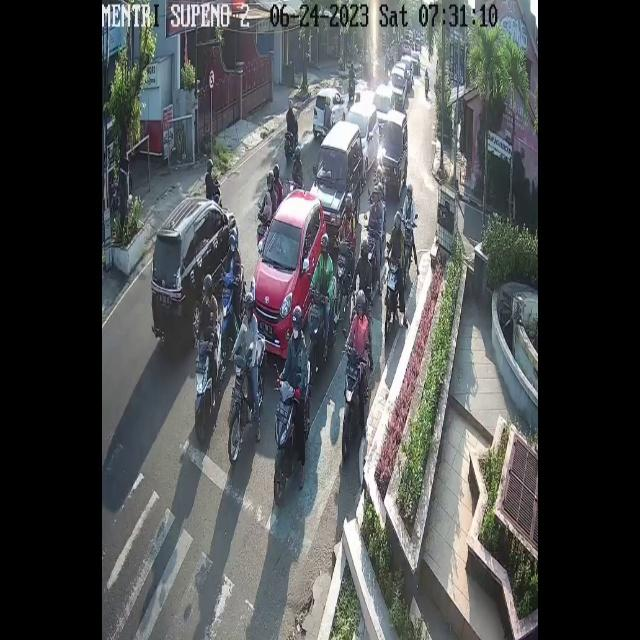bus: (274, 358, 311, 504), (228, 332, 266, 463), (309, 275, 338, 367), (220, 263, 246, 361), (194, 339, 217, 441), (342, 344, 362, 460), (385, 256, 401, 335), (401, 217, 418, 273), (337, 239, 353, 295), (254, 211, 271, 254), (284, 116, 299, 160), (366, 224, 382, 260), (319, 110, 335, 137), (212, 178, 224, 208), (349, 72, 356, 100), (287, 178, 300, 192), (425, 75, 429, 98)
motorcycle: (152, 196, 239, 348), (249, 188, 326, 358), (310, 120, 365, 232), (378, 108, 408, 198), (346, 100, 378, 172), (313, 88, 345, 136), (374, 83, 394, 128), (388, 66, 406, 110)
